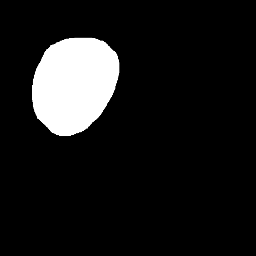mass: (40, 34, 114, 128)
